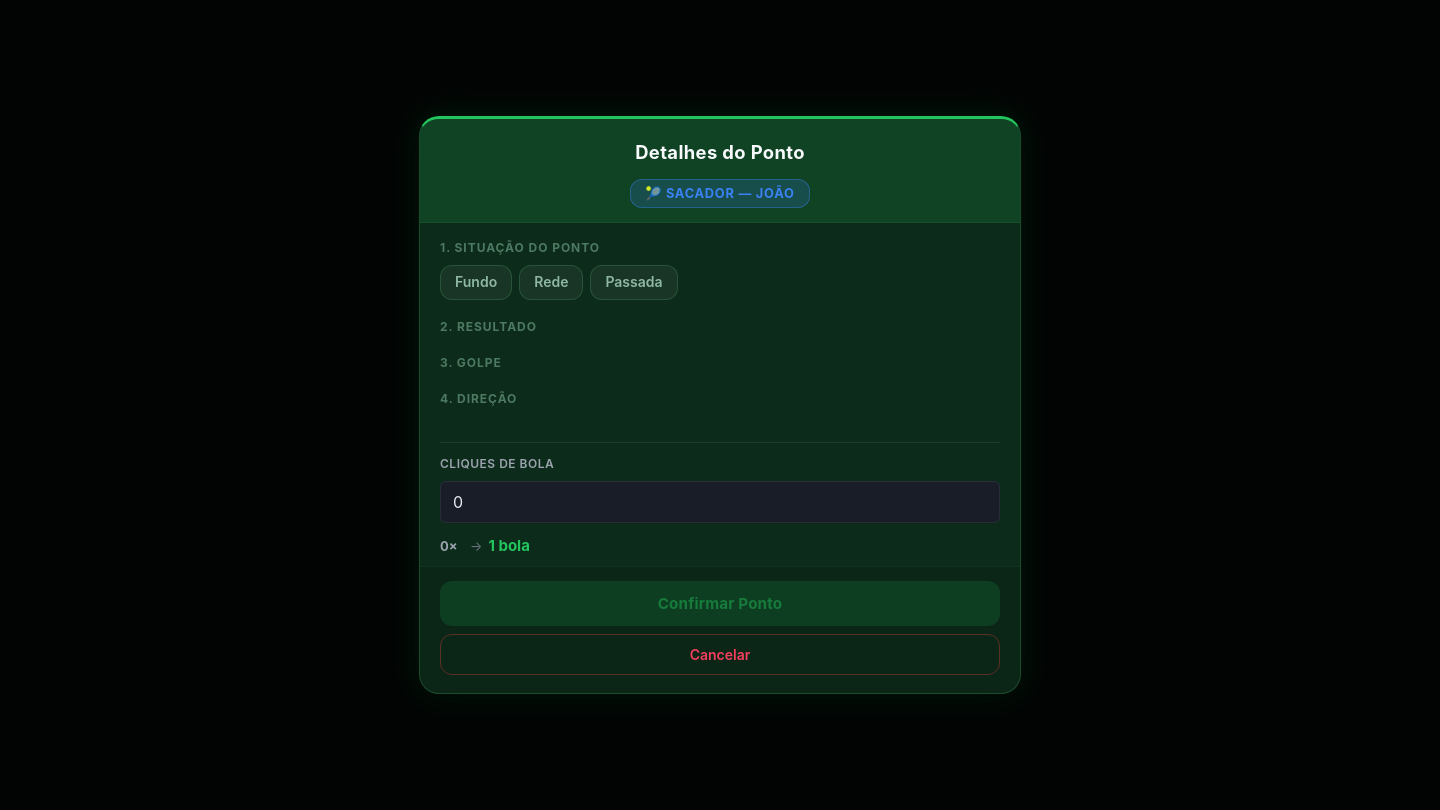
PointDetailsModal › Fluxo de seleção de situação › ao clicar em uma situação, exibe botões de tipo
The image size is (1440, 810).
Click the button "Fundo" at (476, 283), box [440,265,512,300]
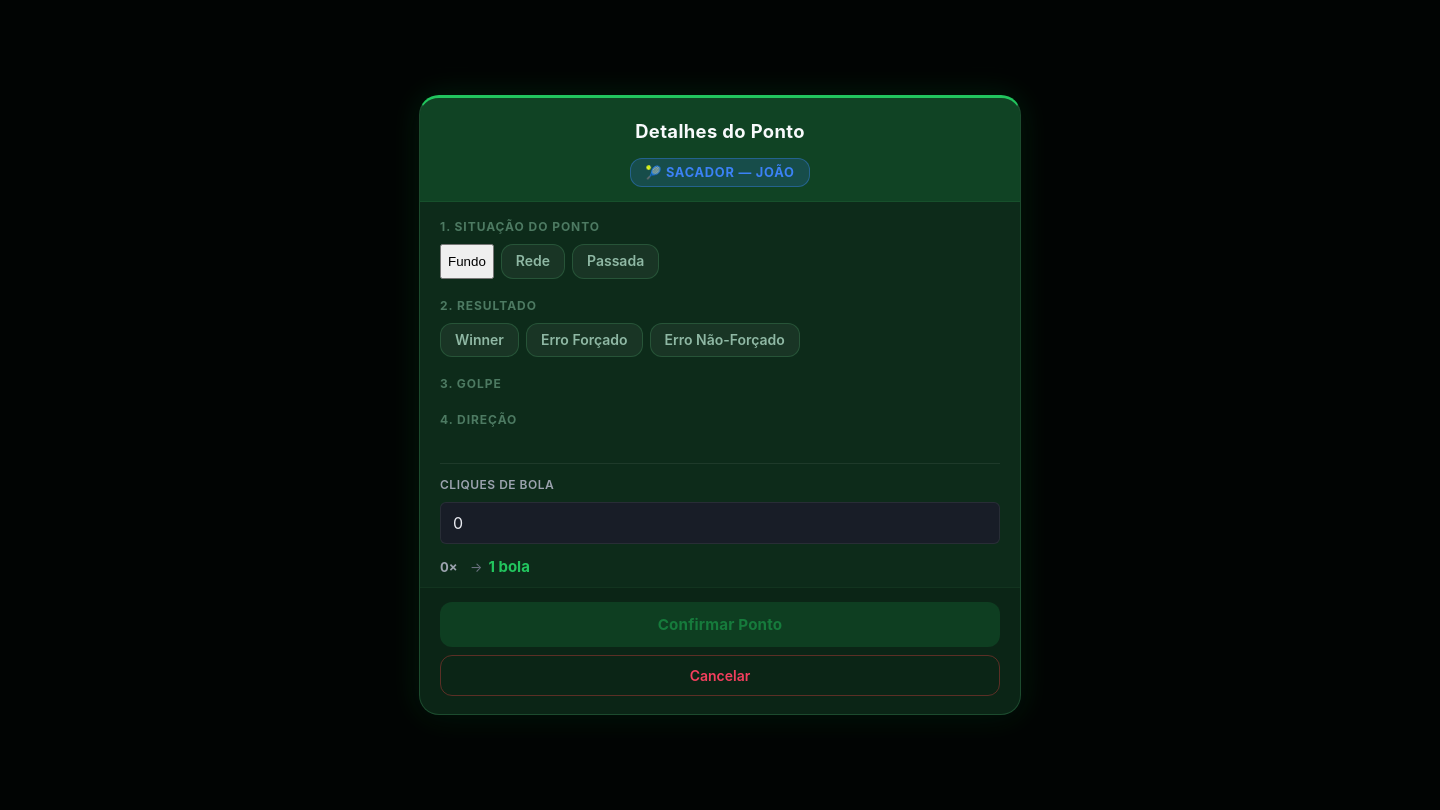
Expected: the button "Winner" is shown, [440,323,519,357]
Expected: the button "Erro Forçado" is shown, [526,323,642,357]
Expected: the button "Erro Não-Forçado" is shown, [650,323,800,357]
